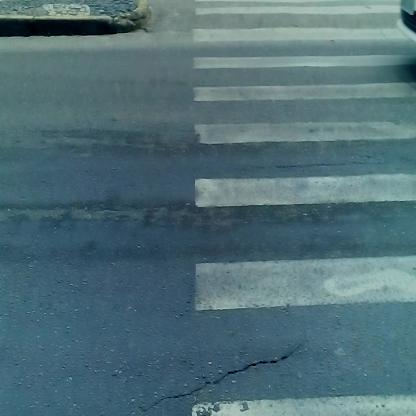crosswalk: (183, 4, 416, 416)
